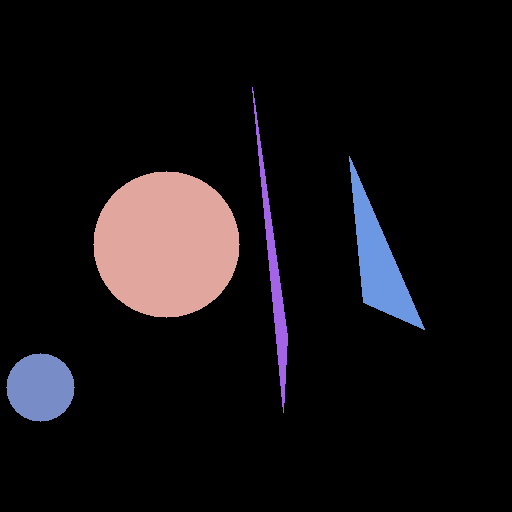circle: (93, 171, 239, 317), (6, 353, 74, 421)
triangle: (349, 156, 424, 329)
